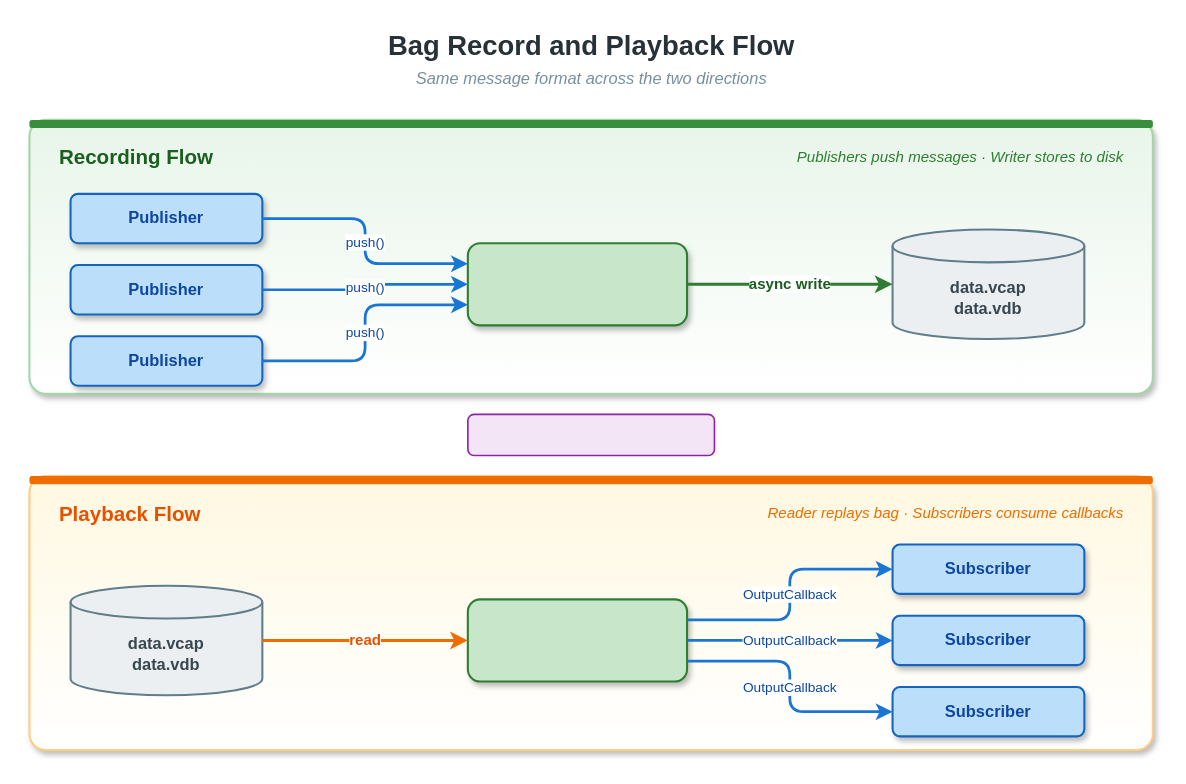
Image size: 1186x784. Some labels were removed from this diagram. The centre of each missing label's shape, as x and y in pixels:
"BagReader" belongs at (x=578, y=642).
"BagWriter" belongs at (x=578, y=285).
"Same Message Format" belongs at (x=590, y=434).
